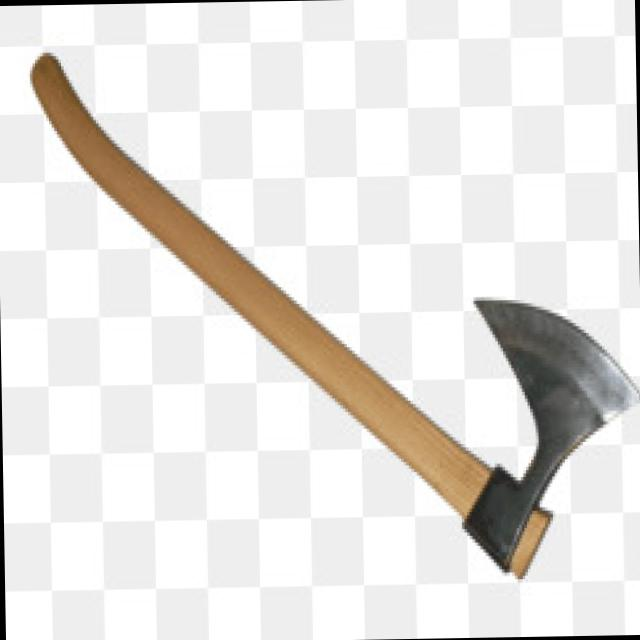Gun: (26, 21, 640, 614)
